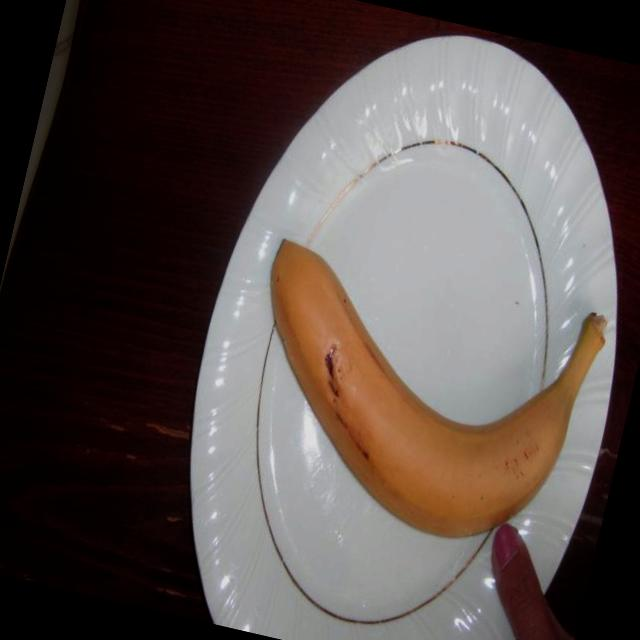Banana: (208, 225, 617, 570)
Finger: (457, 515, 565, 640)
